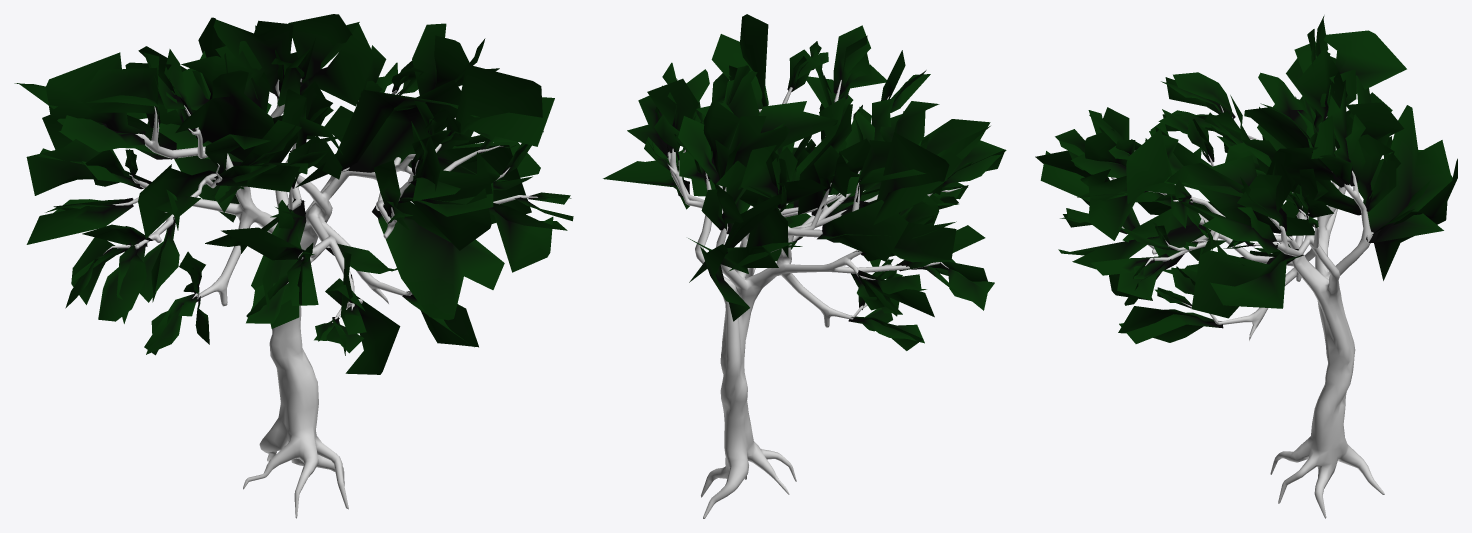
Rendered from DeadTreeCATAM_A.fbx.
3 views of the same model, side by side, from view 1: azimuth 30°, elevation 25°; view 2: azimuth 150°, elevation 25°; view 3: azimuth 270°, elevation 25° (orthographic). The views are drawn at different scales.
Parts seen in each view (by area): view 1: DeadTreeCATAM_A_Leaves_LOD0, DeadTreeCATAM_A_Trunk_LOD0; view 2: DeadTreeCATAM_A_Leaves_LOD0, DeadTreeCATAM_A_Trunk_LOD0; view 3: DeadTreeCATAM_A_Leaves_LOD0, DeadTreeCATAM_A_Trunk_LOD0.
Boxes of the visible parts, x1,y1,x2,y2 form: DeadTreeCATAM_A_Leaves_LOD0: [14, 14, 573, 374]; DeadTreeCATAM_A_Trunk_LOD0: [103, 78, 537, 518]; DeadTreeCATAM_A_Leaves_LOD0: [603, 14, 1006, 350]; DeadTreeCATAM_A_Trunk_LOD0: [667, 80, 961, 518]; DeadTreeCATAM_A_Leaves_LOD0: [1035, 15, 1457, 343]; DeadTreeCATAM_A_Trunk_LOD0: [1111, 105, 1384, 518].
Size of what is drawn, in the model's own units: 12.85 by 13.24 by 12.69.
